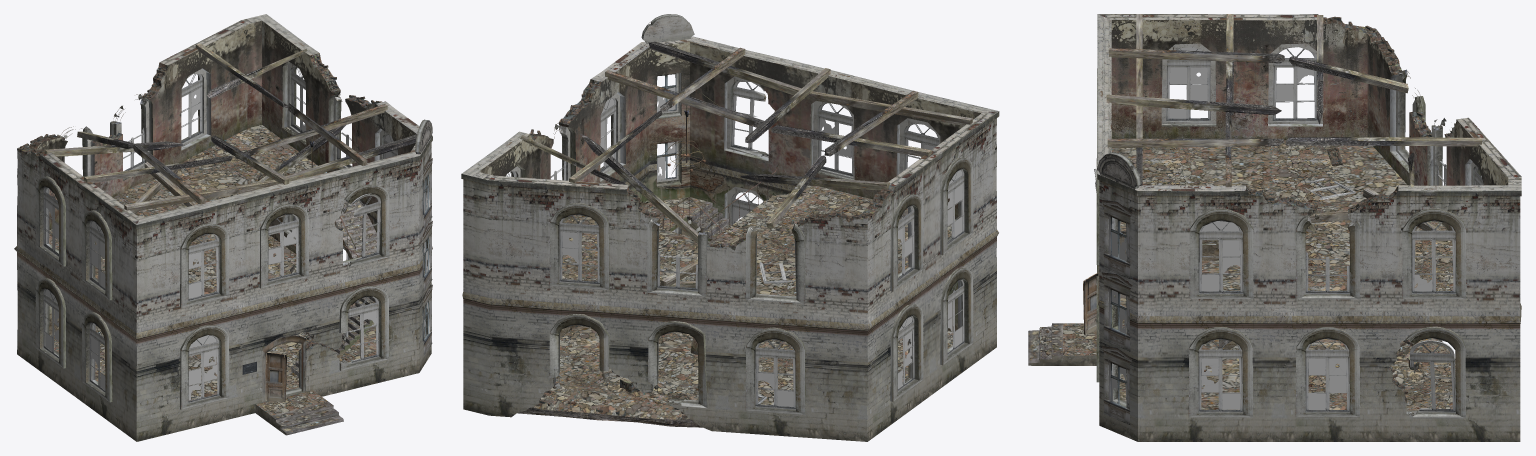
Rendered from Building_City1_01LOD_3.FBX.
3 renders of one model, left to right at view 1: azimuth 30°, elevation 25°; view 2: azimuth 150°, elevation 25°; view 3: azimuth 270°, elevation 25°, orthographic. The views are drawn at different scales.
Parts seen in each view (by area): view 1: Building_City1_Lod3, Building_City1_Door_Lod3, Building_City1_Window02_Lod3, Building_City1_Window01_Lod3, Building_City1_Window05_Lod3, Building_City1_Window04_Lod3, Building_City1_Window03_Lod3, Building_City1_Window12_Lod3, Building_City1_Bricks_Lod3, Building_City1_Window15_Lod3, Building_City1_Window16_Lod3, Building_City1_Window10_Lod3 (+1 smaller); view 2: Building_City1_Lod3, Building_City1_Window13_Lod3, Building_City1_Window12_Lod3, Building_City1_Bricks_Lod3, Building_City1_Window04_Lod3, Building_City1_Window05_Lod3, Building_City1_Window15_Lod3, Building_City1_Window16_Lod3, Building_City1_Window02_Lod3, Building_City1_Window14_Lod3; view 3: Building_City1_Lod3, Building_City1_Window08_Lod3, Building_City1_Window10_Lod3, Building_City1_Window07_Lod3, Building_City1_Window09_Lod3, Building_City1_Window06_Lod3, Building_City1_Bricks_Lod3, Building_City1_Window15_Lod3, Building_City1_Window16_Lod3, Building_City1_Door_Lod3, Building_City1_Window11_Lod3.
Boxes of the visible parts, <box> form: Building_City1_Lod3: <box>14,14,432,441</box>; Building_City1_Door_Lod3: <box>262,335,306,401</box>; Building_City1_Window02_Lod3: <box>188,234,219,301</box>; Building_City1_Window01_Lod3: <box>344,296,379,363</box>; Building_City1_Window05_Lod3: <box>352,193,380,260</box>; Building_City1_Window04_Lod3: <box>268,214,299,281</box>; Building_City1_Window03_Lod3: <box>188,335,219,403</box>; Building_City1_Window12_Lod3: <box>181,73,202,143</box>; Building_City1_Bricks_Lod3: <box>20,56,381,385</box>; Building_City1_Window15_Lod3: <box>43,187,58,256</box>; Building_City1_Window16_Lod3: <box>89,221,105,290</box>; Building_City1_Window10_Lod3: <box>291,66,305,132</box>; Building_City1_Lod3: <box>461,14,999,441</box>; Building_City1_Window13_Lod3: <box>755,340,795,409</box>; Building_City1_Window12_Lod3: <box>559,215,599,284</box>; Building_City1_Bricks_Lod3: <box>530,83,890,417</box>; Building_City1_Window04_Lod3: <box>818,102,853,176</box>; Building_City1_Window05_Lod3: <box>730,81,766,152</box>; Building_City1_Window15_Lod3: <box>898,205,914,280</box>; Building_City1_Window16_Lod3: <box>947,169,964,244</box>; Building_City1_Window02_Lod3: <box>904,123,939,169</box>; Building_City1_Window14_Lod3: <box>657,250,697,291</box>; Building_City1_Lod3: <box>1028,14,1521,441</box>; Building_City1_Window08_Lod3: <box>1305,340,1349,412</box>; Building_City1_Window10_Lod3: <box>1412,222,1456,293</box>; Building_City1_Window07_Lod3: <box>1198,340,1242,412</box>; Building_City1_Window09_Lod3: <box>1409,340,1455,412</box>; Building_City1_Window06_Lod3: <box>1199,222,1243,293</box>; Building_City1_Bricks_Lod3: <box>1249,16,1452,393</box>; Building_City1_Window15_Lod3: <box>1272,48,1317,121</box>; Building_City1_Window16_Lod3: <box>1166,47,1210,121</box>; Building_City1_Door_Lod3: <box>1083,273,1098,334</box>; Building_City1_Window11_Lod3: <box>1305,252,1350,293</box>.
Bounding box in the file's own units: 1562 × 1794 × 1118.
